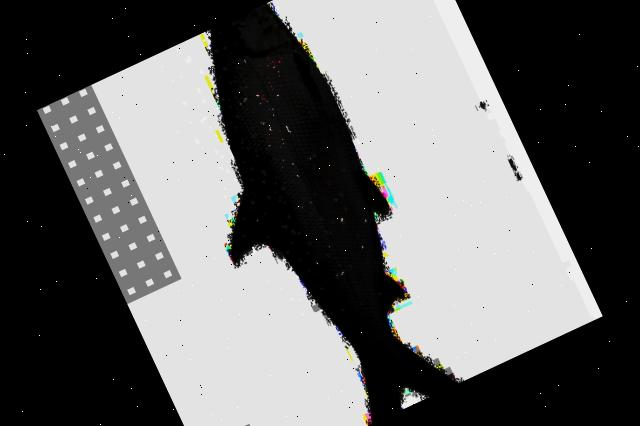Ichthyophthirius -White Spots-: (212, 3, 458, 423), (212, 3, 458, 423), (212, 3, 458, 423)
